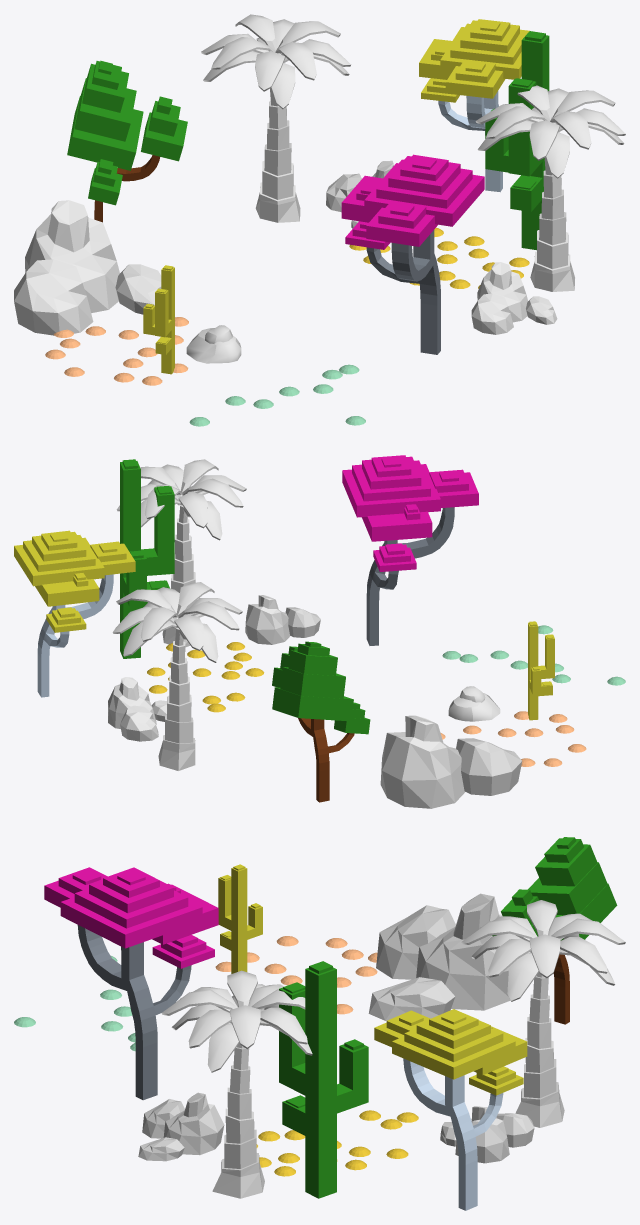
Rendered from lvl 1.FBX.
3 views of the same model, one above another, from view 1: azimuth 30°, elevation 25°; view 2: azimuth 150°, elevation 25°; view 3: azimuth 270°, elevation 25° (orthographic). The views are drawn at different scales.
Parts seen in each view (by area): view 1: lvl 1, build text 2 tree s002, build tex s cactus, Sphere003, Sphere001, build text 2 tree s, Cylinder001, Cylinder002, build tex s cactus001, Sphere002, Sphere004, build text 2 tree s001 (+18 smaller); view 2: lvl 1, Sphere003, build text 2 tree s002, build tex s cactus, Cylinder001, Sphere001, build text 2 tree s, build text 2 tree s001, build tex s cactus001, Sphere004, Cylinder002, Sphere007 (+13 smaller); view 3: lvl 1, build tex s cactus, Sphere003, build text 2 tree s, build text 2 tree s002, Cylinder002, build text 2 tree s001, Cylinder001, Sphere001, build tex s cactus001, Sphere002, Sphere004 (+18 smaller).
Part boxes in pixels (x1,y1,x2,y2): lvl 1: (45,19,529,426); build text 2 tree s002: (67,60,187,205); build tex s cactus: (485,31,549,250); Sphere003: (25,200,119,312); Sphere001: (14,259,93,335); build text 2 tree s: (366,230,440,354); Cylinder001: (255,88,300,222); Cylinder002: (530,157,574,291); build tex s cactus001: (143,265,174,374); Sphere002: (115,264,161,314); Sphere004: (477,262,527,322); build text 2 tree s001: (438,91,502,192); lvl 1: (14,455,625,802); Sphere003: (380,715,465,808); build text 2 tree s002: (272,641,370,734); build tex s cactus: (120,459,174,658); Cylinder001: (158,627,195,770); Sphere001: (456,738,522,795); build text 2 tree s: (366,507,454,645); build text 2 tree s001: (37,574,113,697); build tex s cactus001: (528,621,554,720); Sphere004: (245,595,290,644); Cylinder002: (162,505,196,647); Sphere007: (108,677,156,728); lvl 1: (14,867,569,1176); build tex s cactus: (279,961,368,1198); Sphere003: (416,893,510,1010); build text 2 tree s: (77,925,191,1100); build text 2 tree s002: (492,837,617,940); Cylinder002: (212,1043,264,1198); build text 2 tree s001: (403,1058,503,1210); Cylinder001: (515,972,564,1127); Sphere001: (376,905,455,979); build tex s cactus001: (218,864,262,973); Sphere002: (368,977,455,1020); Sphere004: (163,1092,224,1155).
Size of the model in its own units: 113 by 42.4 by 102.
